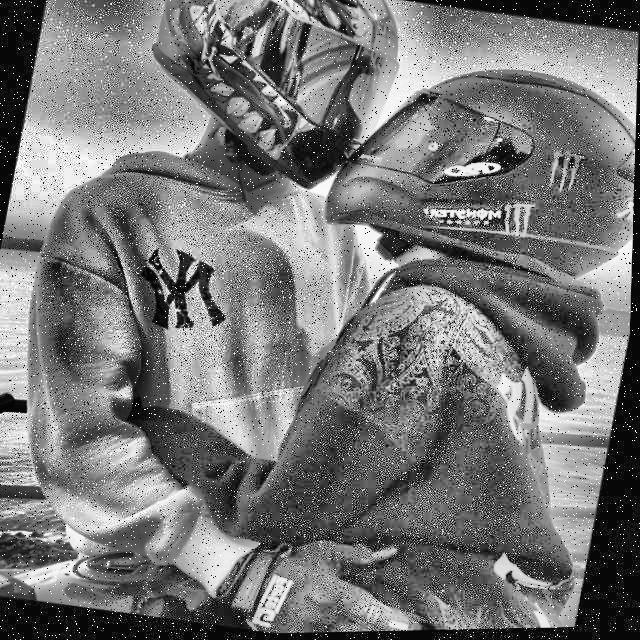Helmet: (313, 35, 639, 308), (124, 0, 417, 212)
